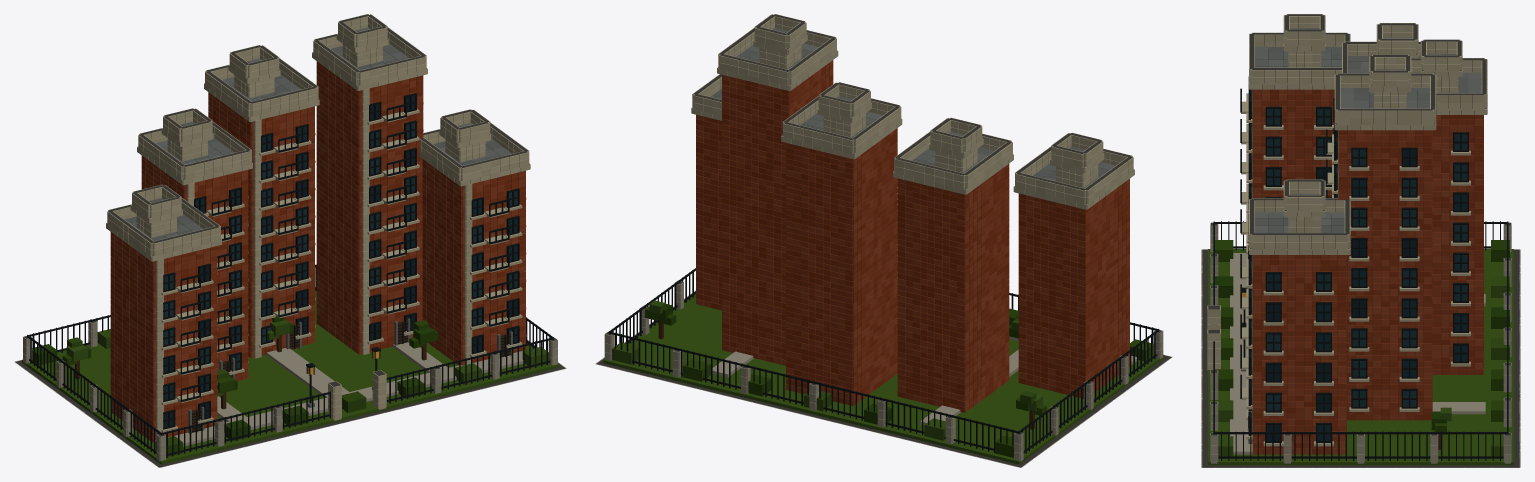
File: SM_Mapa_057.fbx
3 renders of one model, left to right at view 1: azimuth 30°, elevation 25°; view 2: azimuth 150°, elevation 25°; view 3: azimuth 270°, elevation 25°, orthographic. The views are drawn at different scales.
Parts seen in each view (by area): view 1: SM_Mapa_057; view 2: SM_Mapa_057; view 3: SM_Mapa_057.
Boxes of the visible parts, x1,y1,x2,y2 form: SM_Mapa_057: [14, 14, 566, 467]; SM_Mapa_057: [595, 14, 1172, 467]; SM_Mapa_057: [1201, 14, 1520, 467].
Bounding box in the file's own units: 32 × 19.74 × 23.26.
